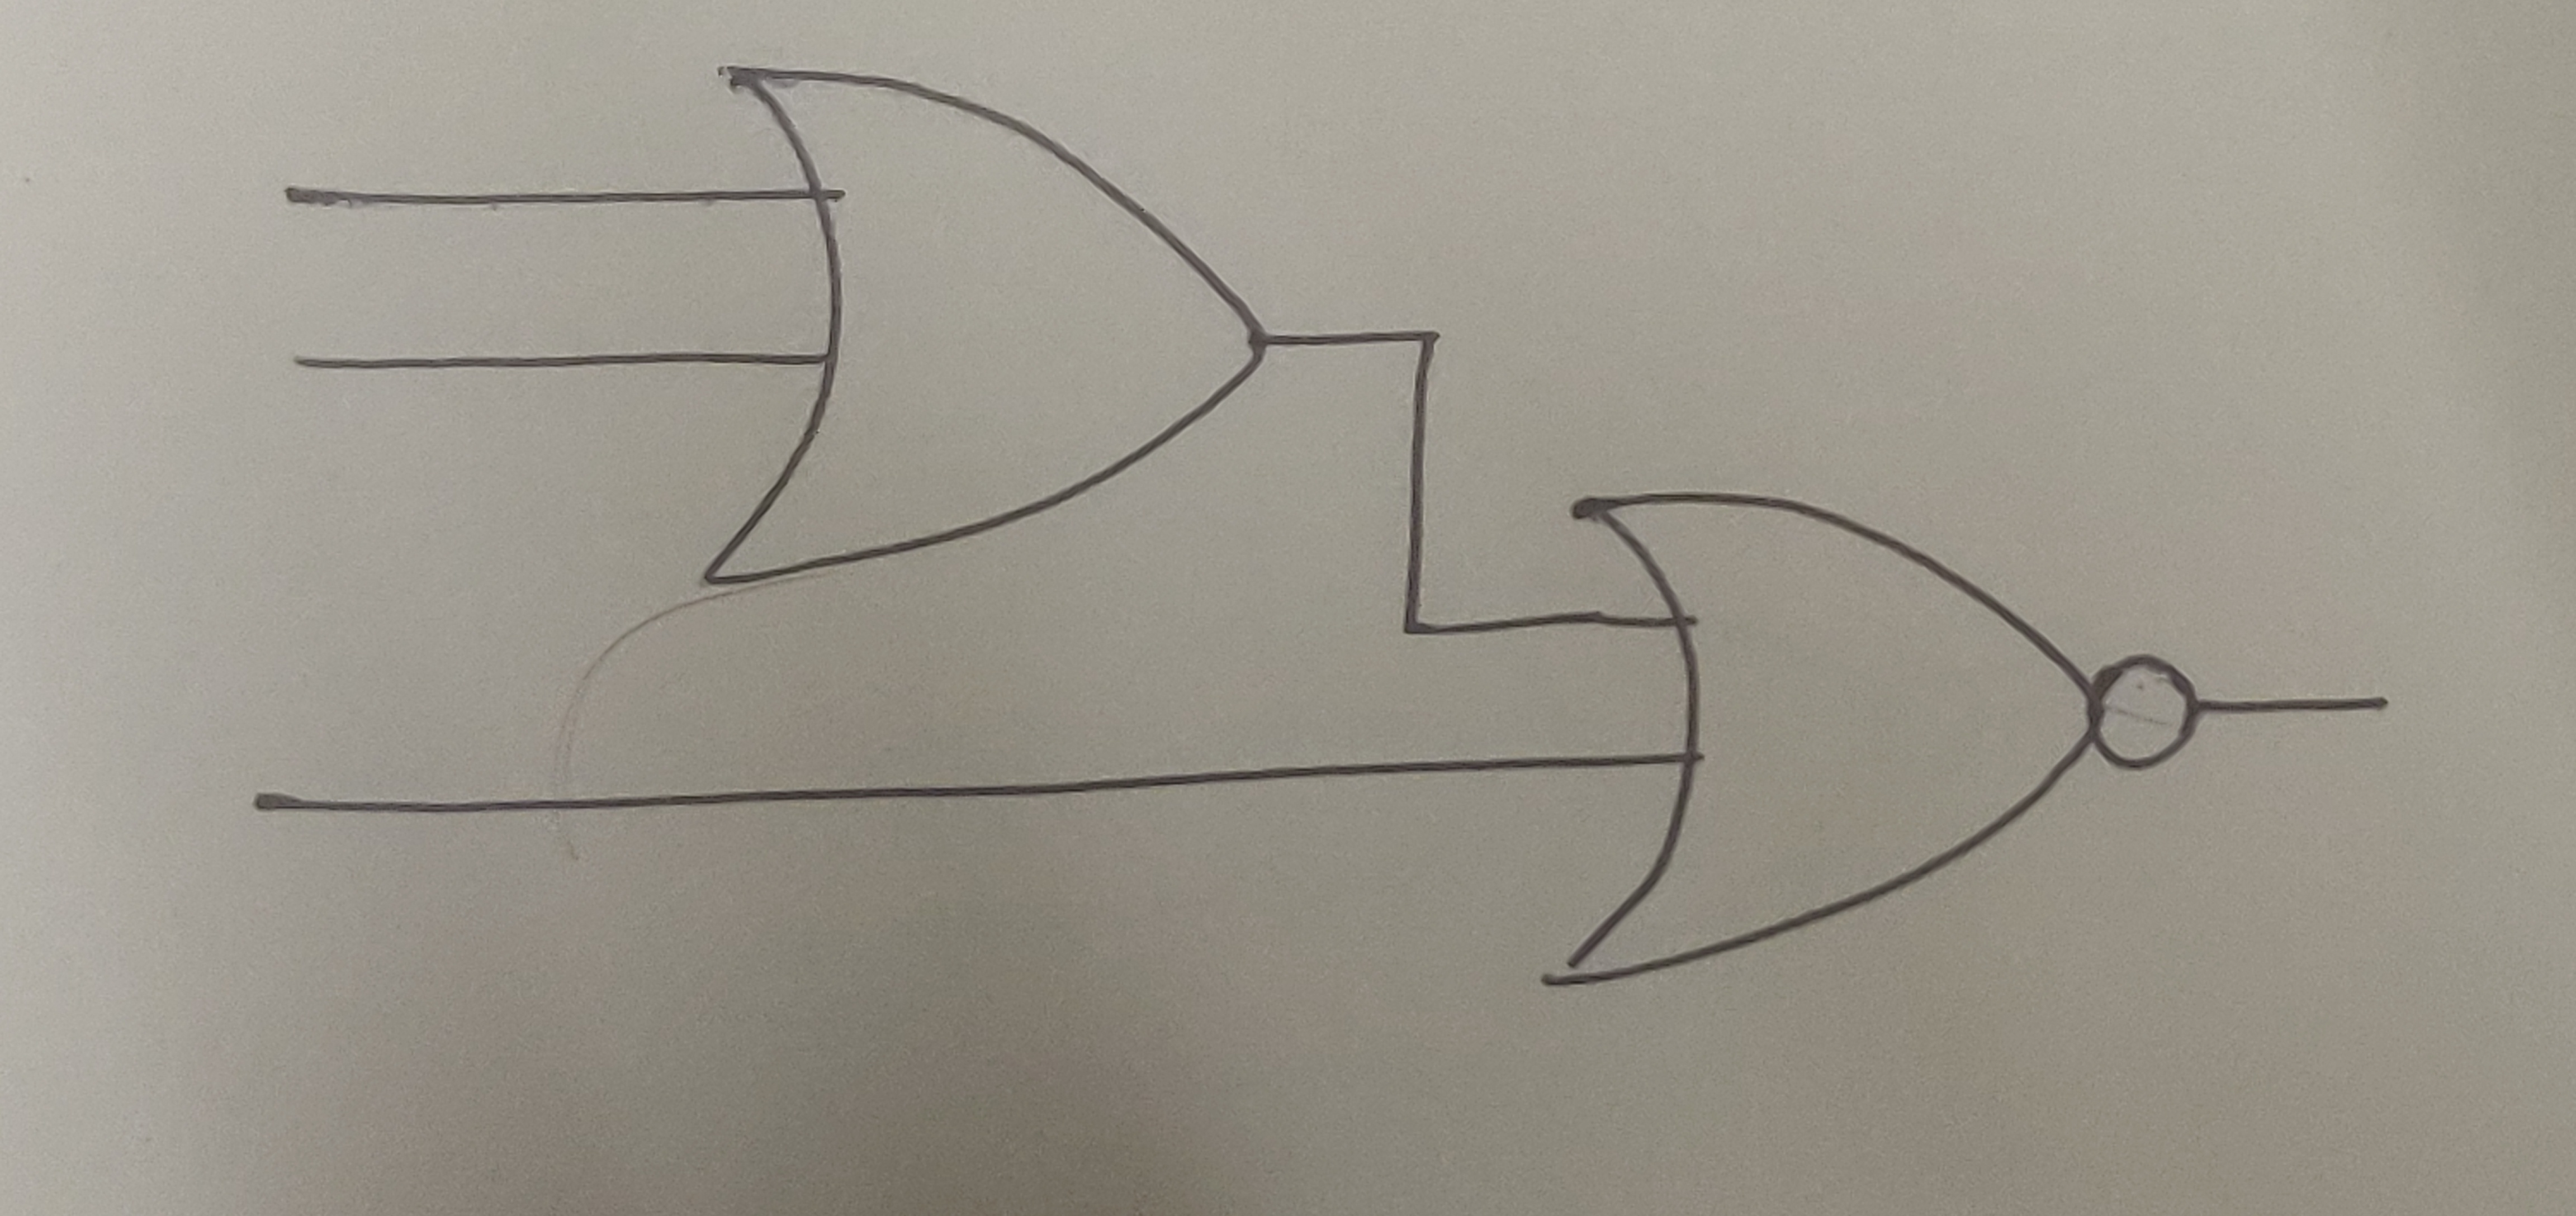not: (2083, 651, 2201, 779)
or: (690, 59, 1278, 588), (1551, 490, 2109, 999)
